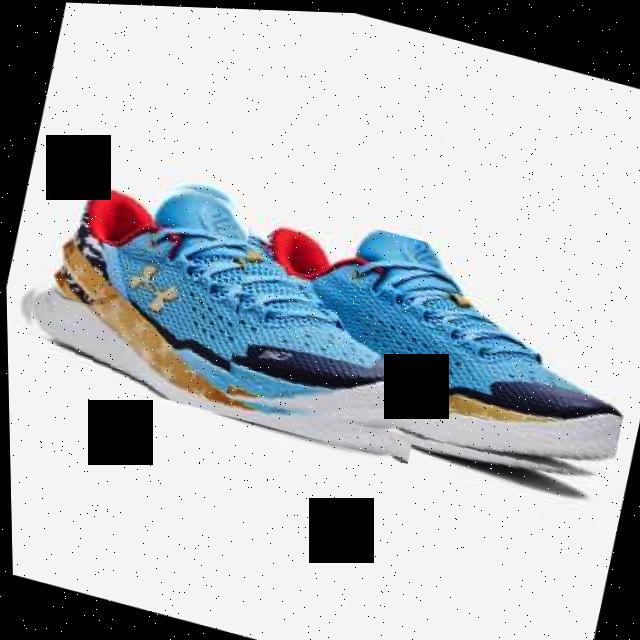shoe: (4, 143, 454, 462), (206, 193, 640, 495)
